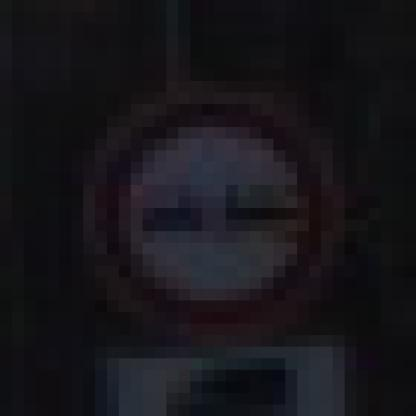No Overtaking: (61, 59, 358, 359)
